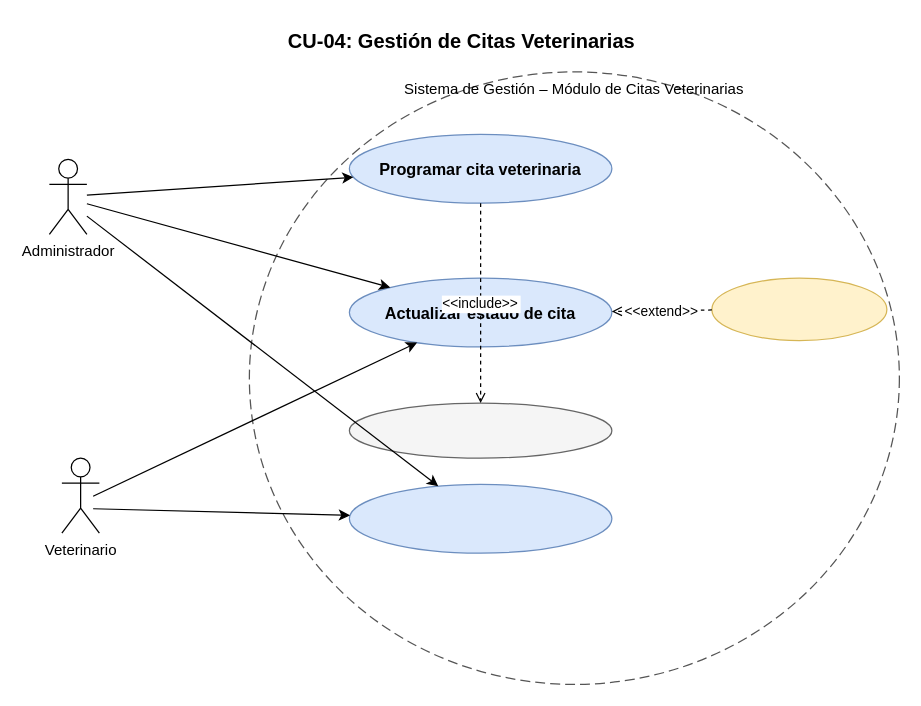
Image size: 921x706. Some labels were removed from this diagram. Each missing label, with the box of its shape:
Actualizar historial médico: (711, 277, 887, 341)
Consultar agenda de citas: (348, 483, 612, 553)
Verificar disponibilidad veterinario: (348, 402, 612, 458)
